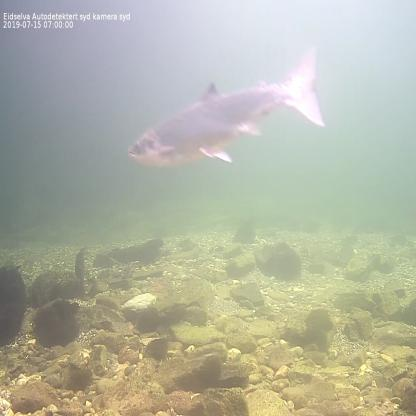salmon: (124, 42, 328, 168)
